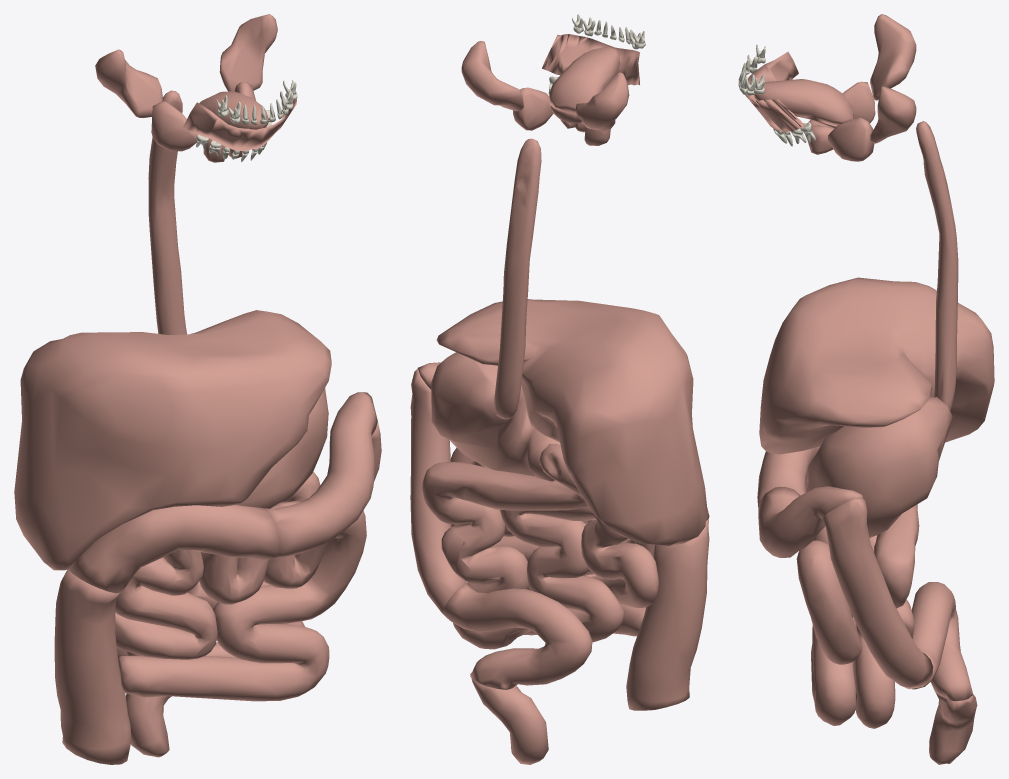
The model's file is pediatric_neonate_male.digestive.LOD1.glb.
The picture shows the model from 3 angles, left to right: view 1: azimuth 30°, elevation 25°; view 2: azimuth 150°, elevation 25°; view 3: azimuth 270°, elevation 25°; orthographic projection. The views are drawn at different scales.
Visible parts, largest first — view 1: PEDIATRIC.NEONATE.MALE.DIGESTIVE.LIVER, PEDIATRIC.NEONATE.MALE.DIGESTIVE.SMALL_INTESTINE_WALL, PEDIATRIC.NEONATE.MALE.DIGESTIVE.ASCENDING_COLON_WALL, PEDIATRIC.NEONATE.MALE.DIGESTIVE.TRANSVERSE_COLON_WALL.R, PEDIATRIC.NEONATE.MALE.DIGESTIVE.TRANSVERSE_COLON_WALL.L, PEDIATRIC.NEONATE.MALE.DIGESTIVE.OESOPHAGUS_WALL, PEDIATRIC.NEONATE.MALE.DIGESTIVE.SALIVARY_GLANDS.R, PEDIATRIC.NEONATE.MALE.DIGESTIVE.STOMACH_WALL, PEDIATRIC.NEONATE.MALE.DIGESTIVE.SALIVARY_GLANDS.L, PEDIATRIC.NEONATE.MALE.DIGESTIVE.ORAL_MUCOSA_LIP_AND_CHEEKS, PEDIATRIC.NEONATE.MALE.DIGESTIVE.RECTUM_WALL, PEDIATRIC.NEONATE.MALE.DIGESTIVE.ORAL_MUCOSA_MOUTH_FLOOR (+2 smaller); view 2: PEDIATRIC.NEONATE.MALE.DIGESTIVE.LIVER, PEDIATRIC.NEONATE.MALE.DIGESTIVE.SMALL_INTESTINE_WALL, PEDIATRIC.NEONATE.MALE.DIGESTIVE.ASCENDING_COLON_WALL, PEDIATRIC.NEONATE.MALE.DIGESTIVE.SIGMOID_COLON_WALL, PEDIATRIC.NEONATE.MALE.DIGESTIVE.STOMACH_WALL, PEDIATRIC.NEONATE.MALE.DIGESTIVE.OESOPHAGUS_WALL, PEDIATRIC.NEONATE.MALE.DIGESTIVE.DESCENDING_COLON_WALL, PEDIATRIC.NEONATE.MALE.DIGESTIVE.SALIVARY_GLANDS.L, PEDIATRIC.NEONATE.MALE.DIGESTIVE.RECTUM_WALL, PEDIATRIC.NEONATE.MALE.DIGESTIVE.ORAL_MUCOSA_MOUTH_FLOOR, PEDIATRIC.NEONATE.MALE.DIGESTIVE.SALIVARY_GLANDS.R, PEDIATRIC.NEONATE.MALE.DIGESTIVE.ORAL_MUCOSA_LIP_AND_CHEEKS (+1 smaller); view 3: PEDIATRIC.NEONATE.MALE.DIGESTIVE.LIVER, PEDIATRIC.NEONATE.MALE.DIGESTIVE.SMALL_INTESTINE_WALL, PEDIATRIC.NEONATE.MALE.DIGESTIVE.STOMACH_WALL, PEDIATRIC.NEONATE.MALE.DIGESTIVE.DESCENDING_COLON_WALL, PEDIATRIC.NEONATE.MALE.DIGESTIVE.OESOPHAGUS_WALL, PEDIATRIC.NEONATE.MALE.DIGESTIVE.SIGMOID_COLON_WALL, PEDIATRIC.NEONATE.MALE.DIGESTIVE.TRANSVERSE_COLON_WALL.L, PEDIATRIC.NEONATE.MALE.DIGESTIVE.SALIVARY_GLANDS.L, PEDIATRIC.NEONATE.MALE.DIGESTIVE.SALIVARY_GLANDS.R, PEDIATRIC.NEONATE.MALE.DIGESTIVE.ORAL_MUCOSA_MOUTH_FLOOR, PEDIATRIC.NEONATE.MALE.DIGESTIVE.RECTUM_WALL, PEDIATRIC.NEONATE.MALE.DIGESTIVE.TRANSVERSE_COLON_WALL.R (+3 smaller).
Boxes of the visible parts, x1,y1,x2,y2 form: PEDIATRIC.NEONATE.MALE.DIGESTIVE.LIVER: (14, 310, 331, 570); PEDIATRIC.NEONATE.MALE.DIGESTIVE.SMALL_INTESTINE_WALL: (115, 471, 366, 701); PEDIATRIC.NEONATE.MALE.DIGESTIVE.ASCENDING_COLON_WALL: (54, 569, 131, 764); PEDIATRIC.NEONATE.MALE.DIGESTIVE.TRANSVERSE_COLON_WALL.R: (68, 505, 278, 593); PEDIATRIC.NEONATE.MALE.DIGESTIVE.TRANSVERSE_COLON_WALL.L: (264, 392, 377, 558); PEDIATRIC.NEONATE.MALE.DIGESTIVE.OESOPHAGUS_WALL: (148, 90, 186, 334); PEDIATRIC.NEONATE.MALE.DIGESTIVE.SALIVARY_GLANDS.R: (95, 49, 225, 162); PEDIATRIC.NEONATE.MALE.DIGESTIVE.STOMACH_WALL: (237, 388, 328, 508); PEDIATRIC.NEONATE.MALE.DIGESTIVE.SALIVARY_GLANDS.L: (219, 14, 277, 158); PEDIATRIC.NEONATE.MALE.DIGESTIVE.ORAL_MUCOSA_LIP_AND_CHEEKS: (183, 98, 296, 151); PEDIATRIC.NEONATE.MALE.DIGESTIVE.RECTUM_WALL: (125, 693, 171, 757); PEDIATRIC.NEONATE.MALE.DIGESTIVE.ORAL_MUCOSA_MOUTH_FLOOR: (199, 91, 268, 129); PEDIATRIC.NEONATE.MALE.DIGESTIVE.LIVER: (436, 299, 707, 545); PEDIATRIC.NEONATE.MALE.DIGESTIVE.SMALL_INTESTINE_WALL: (422, 443, 659, 649); PEDIATRIC.NEONATE.MALE.DIGESTIVE.ASCENDING_COLON_WALL: (626, 518, 709, 710); PEDIATRIC.NEONATE.MALE.DIGESTIVE.SIGMOID_COLON_WALL: (442, 583, 592, 689); PEDIATRIC.NEONATE.MALE.DIGESTIVE.STOMACH_WALL: (431, 352, 560, 481); PEDIATRIC.NEONATE.MALE.DIGESTIVE.OESOPHAGUS_WALL: (494, 138, 541, 419); PEDIATRIC.NEONATE.MALE.DIGESTIVE.DESCENDING_COLON_WALL: (410, 368, 466, 612); PEDIATRIC.NEONATE.MALE.DIGESTIVE.SALIVARY_GLANDS.L: (461, 41, 575, 130); PEDIATRIC.NEONATE.MALE.DIGESTIVE.RECTUM_WALL: (470, 673, 548, 764); PEDIATRIC.NEONATE.MALE.DIGESTIVE.ORAL_MUCOSA_MOUTH_FLOOR: (549, 47, 619, 113); PEDIATRIC.NEONATE.MALE.DIGESTIVE.SALIVARY_GLANDS.R: (575, 72, 629, 145); PEDIATRIC.NEONATE.MALE.DIGESTIVE.ORAL_MUCOSA_LIP_AND_CHEEKS: (542, 34, 639, 85); PEDIATRIC.NEONATE.MALE.DIGESTIVE.LIVER: (759, 277, 994, 454); PEDIATRIC.NEONATE.MALE.DIGESTIVE.SMALL_INTESTINE_WALL: (796, 476, 919, 728); PEDIATRIC.NEONATE.MALE.DIGESTIVE.STOMACH_WALL: (806, 397, 952, 537); PEDIATRIC.NEONATE.MALE.DIGESTIVE.DESCENDING_COLON_WALL: (822, 498, 933, 689); PEDIATRIC.NEONATE.MALE.DIGESTIVE.OESOPHAGUS_WALL: (916, 121, 958, 410); PEDIATRIC.NEONATE.MALE.DIGESTIVE.SIGMOID_COLON_WALL: (911, 582, 972, 701); PEDIATRIC.NEONATE.MALE.DIGESTIVE.TRANSVERSE_COLON_WALL.L: (758, 486, 863, 557); PEDIATRIC.NEONATE.MALE.DIGESTIVE.SALIVARY_GLANDS.L: (808, 86, 916, 161); PEDIATRIC.NEONATE.MALE.DIGESTIVE.SALIVARY_GLANDS.R: (809, 14, 916, 128); PEDIATRIC.NEONATE.MALE.DIGESTIVE.ORAL_MUCOSA_MOUTH_FLOOR: (754, 79, 854, 126); PEDIATRIC.NEONATE.MALE.DIGESTIVE.RECTUM_WALL: (929, 693, 977, 764); PEDIATRIC.NEONATE.MALE.DIGESTIVE.TRANSVERSE_COLON_WALL.R: (757, 446, 820, 508).
Bounding box in the file's own units: 0.1162 × 0.2541 × 0.0824.
